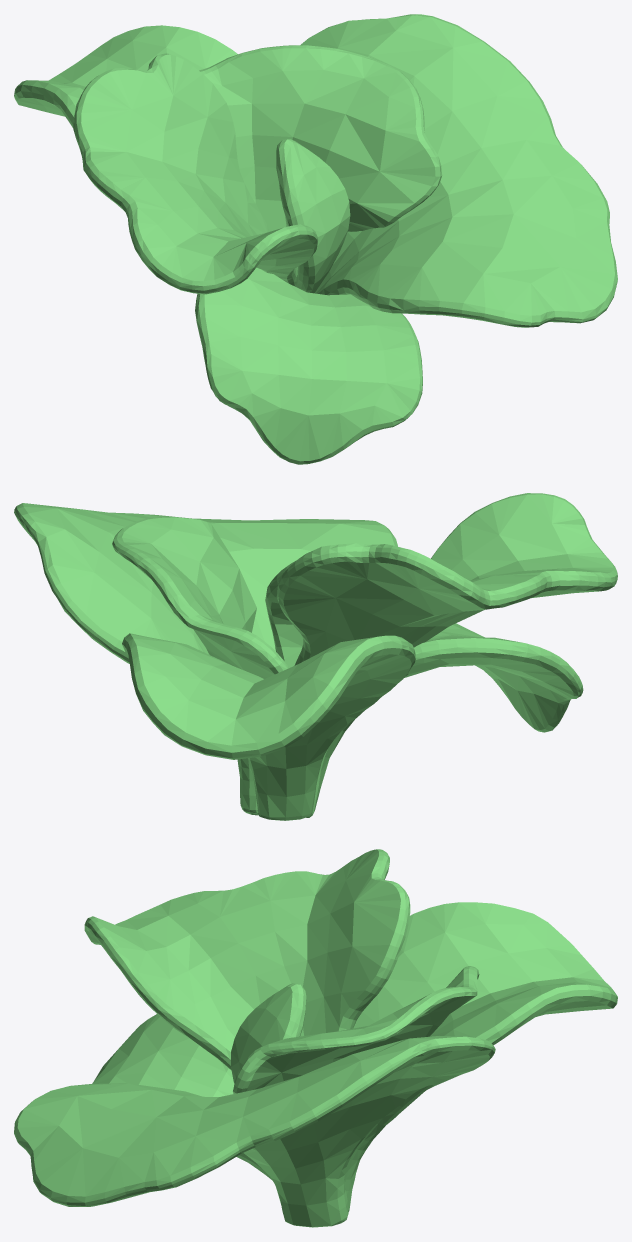
File: crop_cab2.glb
3 views of the same model, one above another, from view 1: azimuth 30°, elevation 25°; view 2: azimuth 150°, elevation 25°; view 3: azimuth 270°, elevation 25° (orthographic). The views are drawn at different scales.
Visible parts, largest first — view 1: leaf; view 2: leaf; view 3: leaf.
Part boxes in pixels (x1,y1,x2,y2): leaf: (14,14,617,464); leaf: (14,493,617,820); leaf: (14,849,617,1227).
Size of the model in its own units: 0.2793 by 0.1738 by 0.3208.
